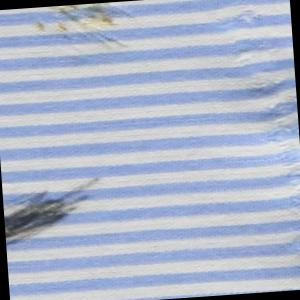Damage: (210, 1, 300, 289)
Oil Stain: (33, 2, 140, 61)
Stain: (3, 174, 111, 252)
